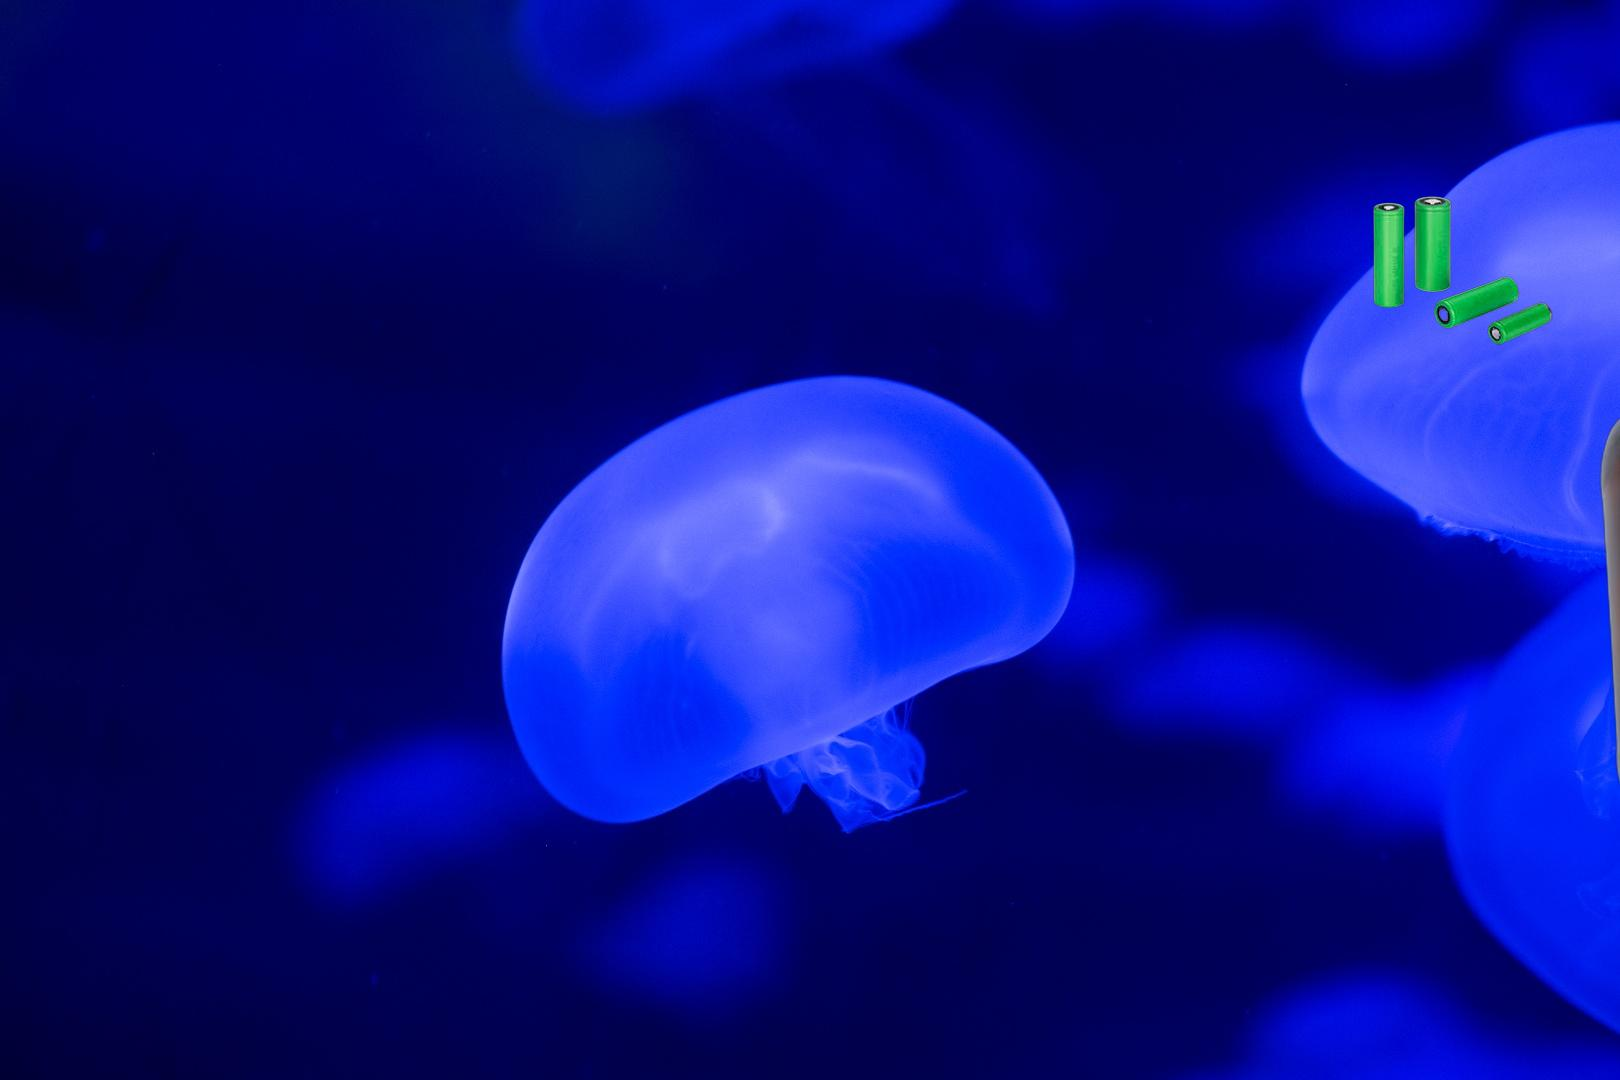battery: (1370, 193, 1554, 348)
glass: (1596, 403, 1620, 787)
